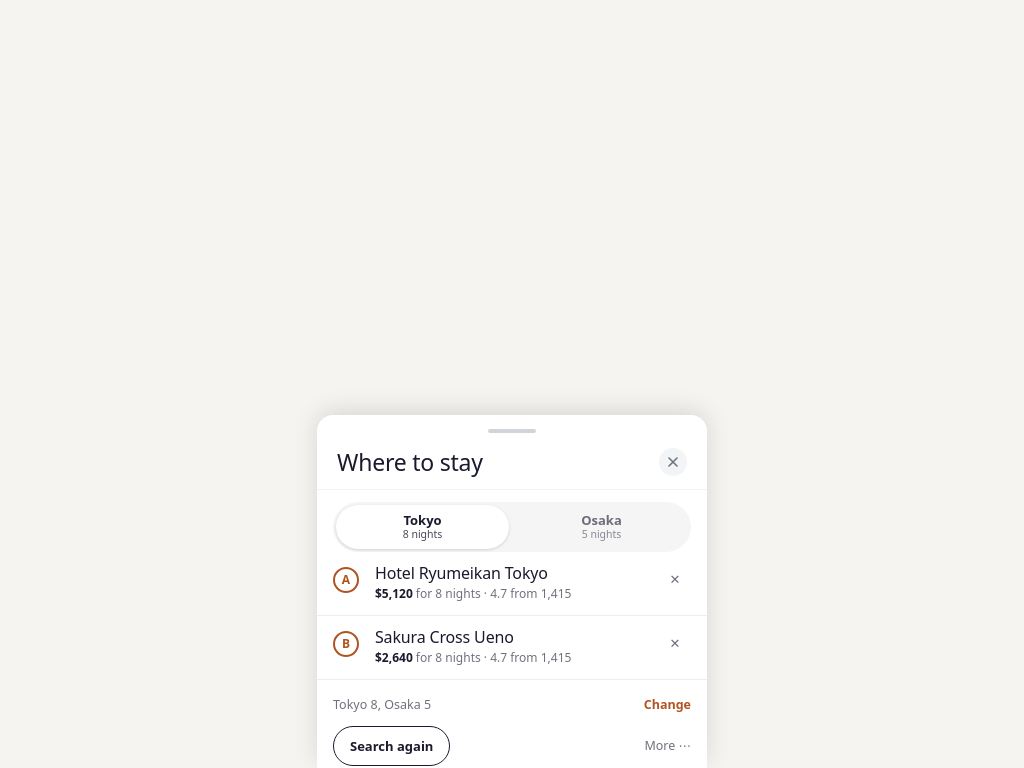
Test case: a listing he found himself › adds it to THIS base's list, priced at what he saw
Click the button "More ⋯" at (668, 746), box [644,737,691,756]
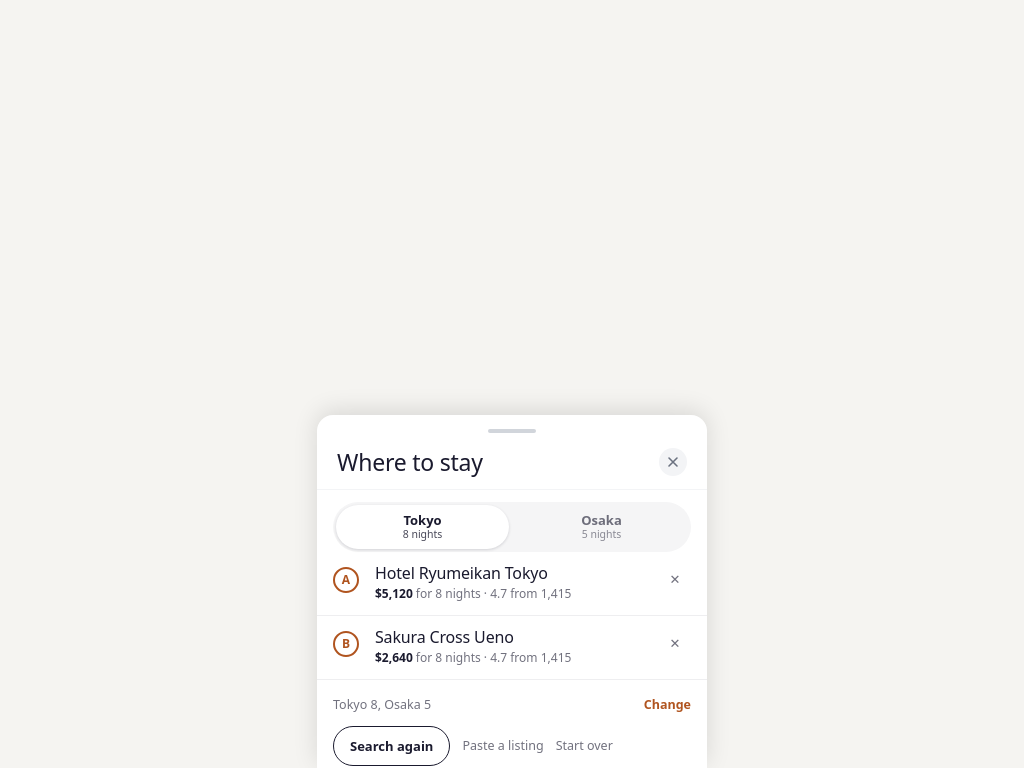
Click the button "Paste a listing" at (503, 746), box [462,737,544,756]
(page scrolled)
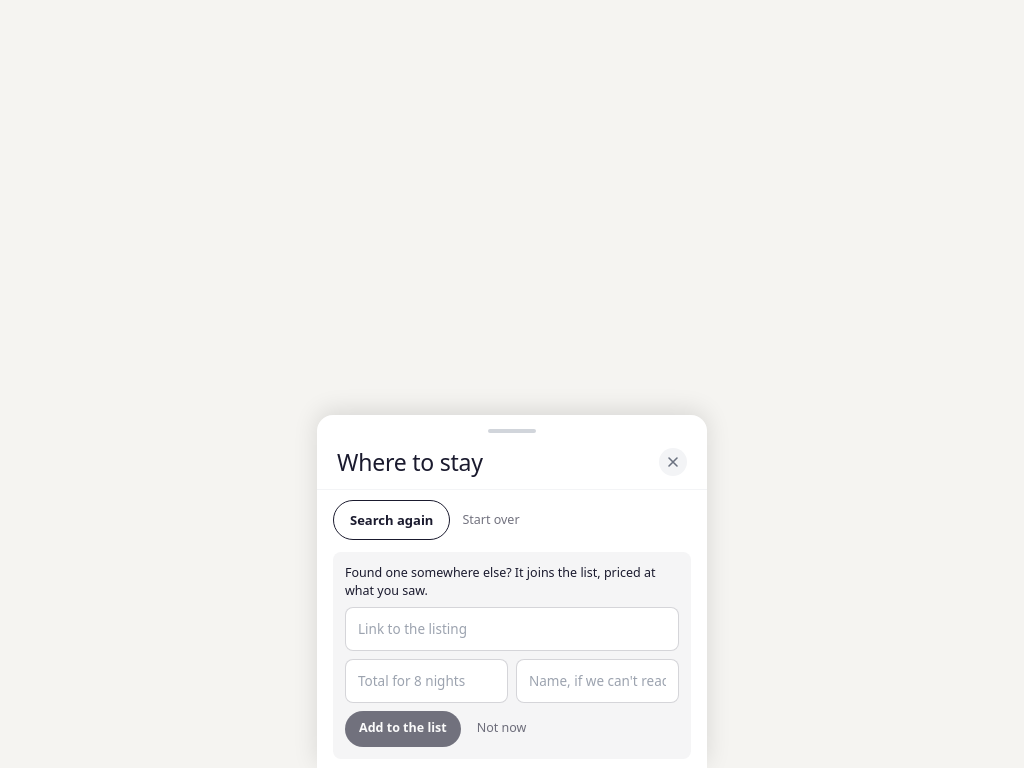
Type "https://www.vrbo.com/pdp/lo/1" into the field labelled "Link to the listing" at (512, 629), box [345,607,679,651]
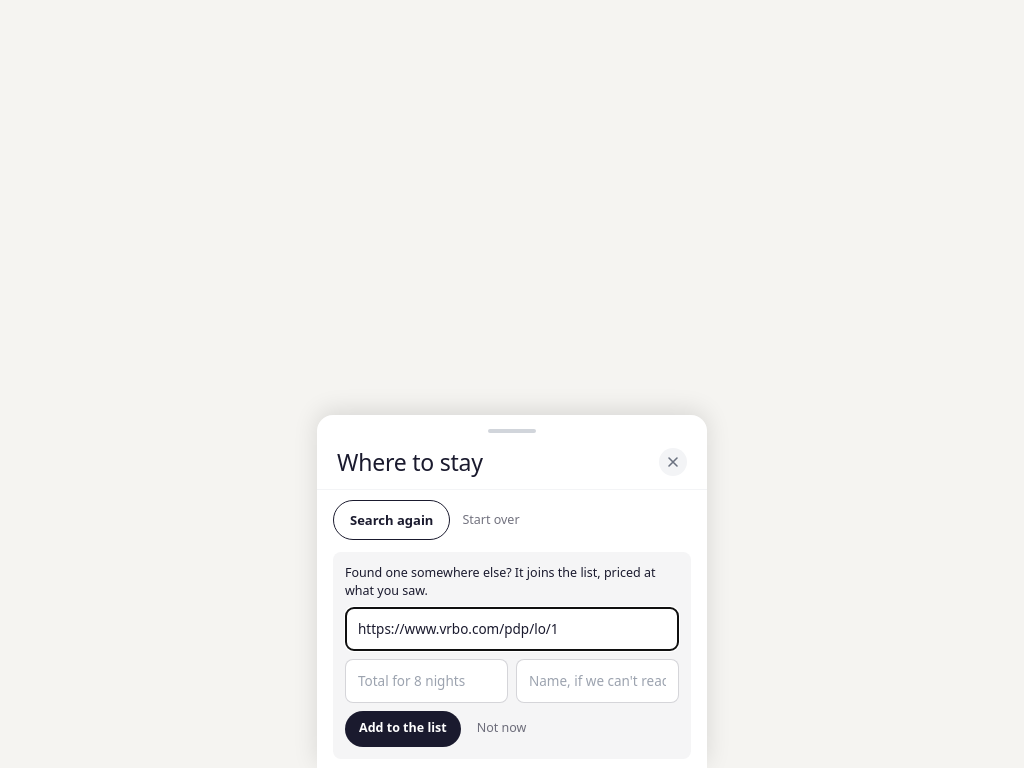
Type "10400" into the field named "Total price you saw" at (426, 681), box [345,659,508,703]
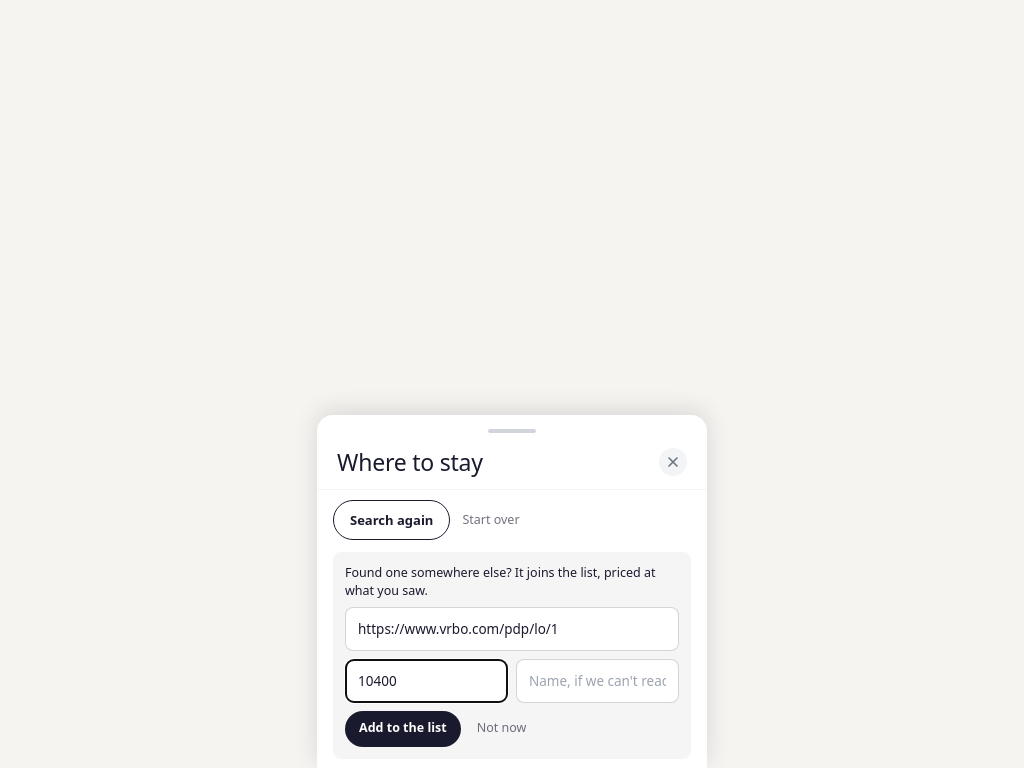
Click the button "Add to the list" at (403, 729), box [345,711,461,747]
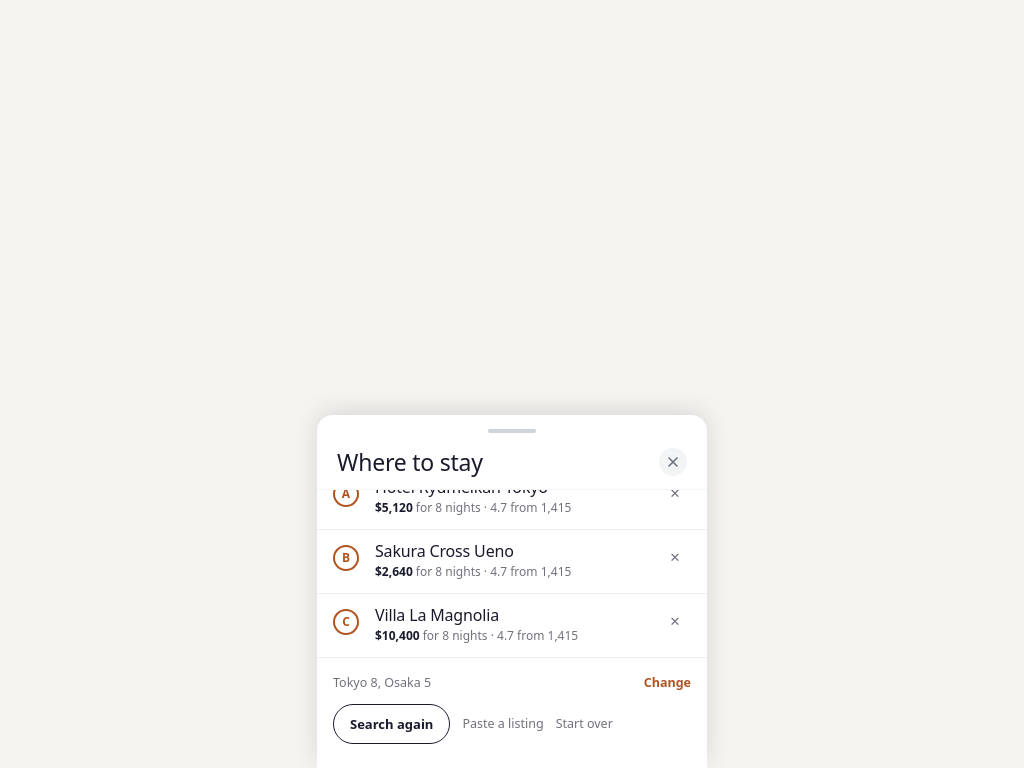
Check: the field labelled "Link to the listing" is not shown
Check: the text "Villa La Magnolia" is shown, box [375,604,499,626]
Check: the text "$10,400" is shown, box [375,627,420,644]
